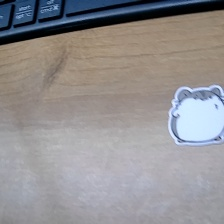mouse: (166, 82, 224, 146)
